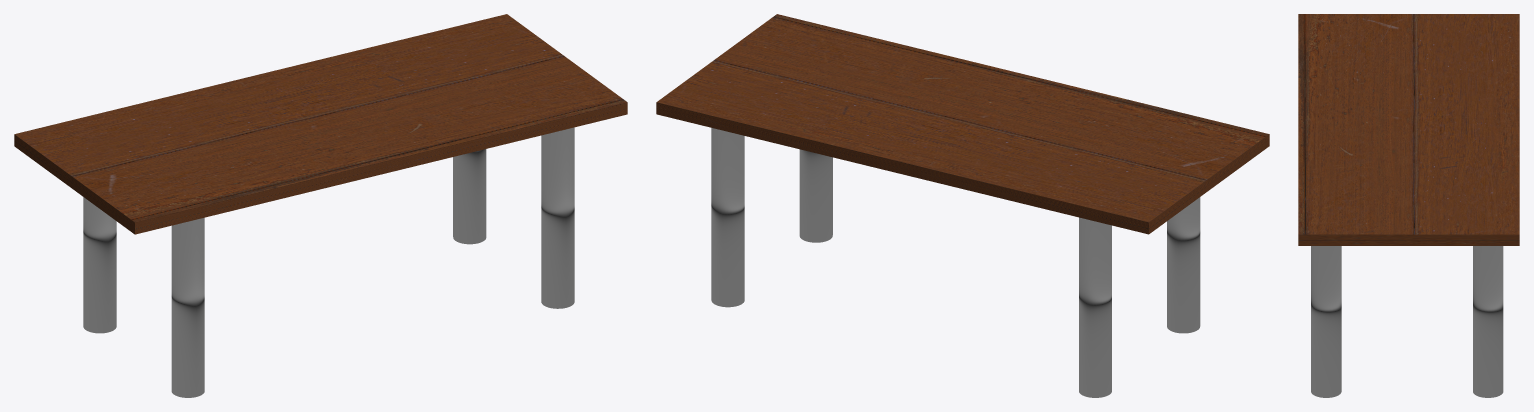
Rendered from Furniture1.fbx.
The picture shows the model from 3 angles, left to right: view 1: azimuth 30°, elevation 25°; view 2: azimuth 150°, elevation 25°; view 3: azimuth 270°, elevation 25°; orthographic projection. The views are drawn at different scales.
Visible parts, largest first — view 1: Cube; view 2: Cube; view 3: Cube.
Part boxes in pixels (<box>): Cube: <box>14,14,627,397</box>; Cube: <box>656,14,1269,397</box>; Cube: <box>1298,14,1519,397</box>.
Size of the model in its own units: 3412 by 1306 by 1447.
